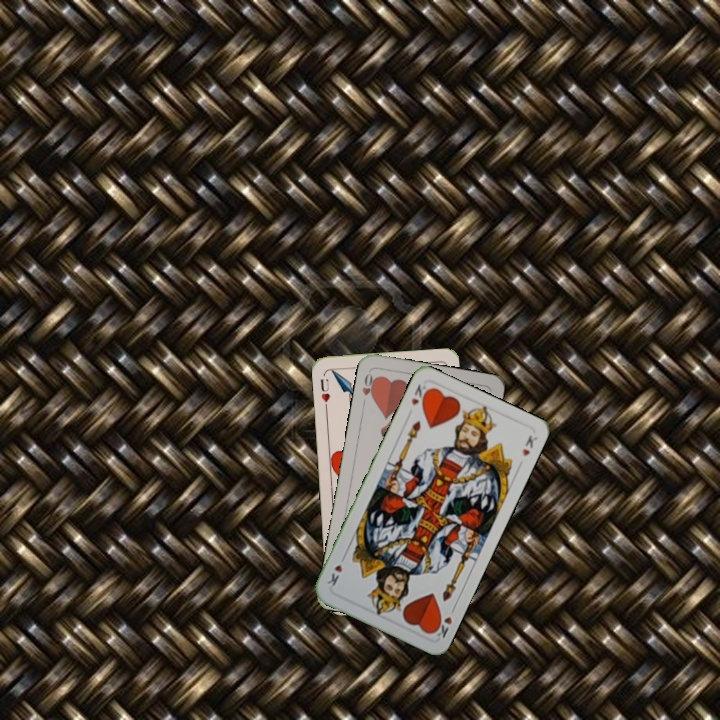HK: (429, 611, 455, 641), (407, 380, 432, 408)
HO: (358, 369, 379, 401)
HU: (316, 375, 333, 405)
